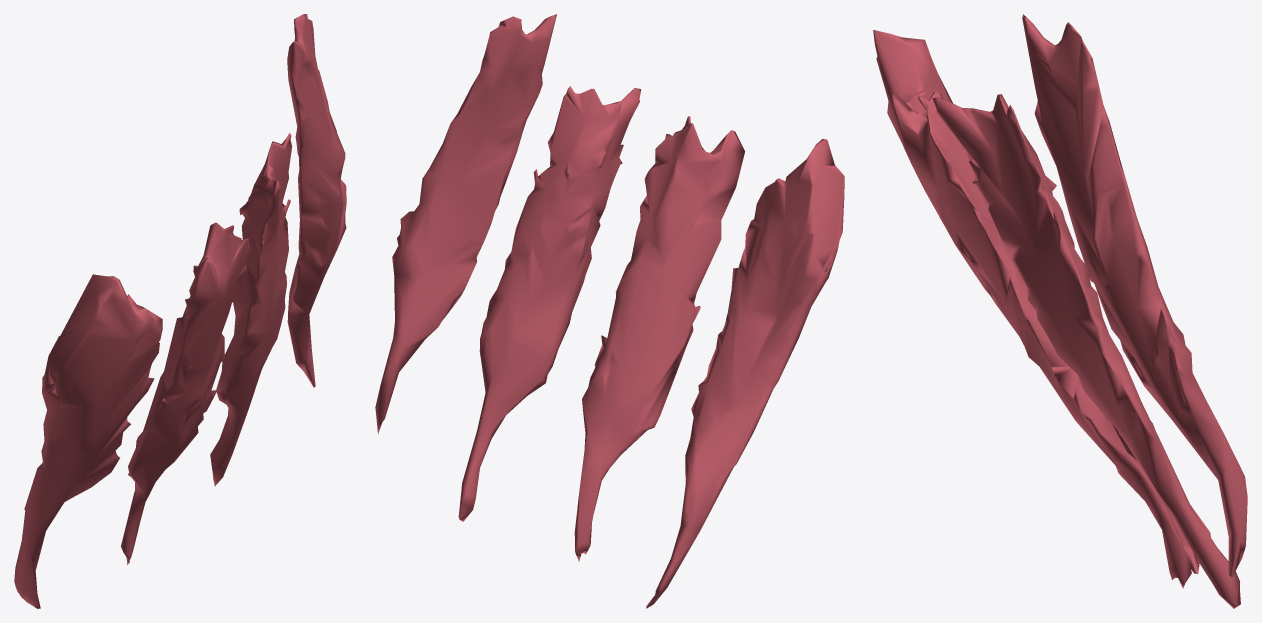
3 renders of one model, left to right at view 1: azimuth 30°, elevation 25°; view 2: azimuth 150°, elevation 25°; view 3: azimuth 270°, elevation 25°, orthographic. The views are drawn at different scales.
Visible parts, largest first — view 1: 左侧足骨间背侧肌; view 2: 左侧足骨间背侧肌; view 3: 左侧足骨间背侧肌.
Part boxes in pixels (box(x1,y1,x2,y2)): 左侧足骨间背侧肌: box(14, 14, 346, 608); 左侧足骨间背侧肌: box(375, 14, 844, 608); 左侧足骨间背侧肌: box(873, 14, 1247, 608).
Bounding box in the file's own units: 0.0756 × 0.1064 × 0.0543.
